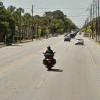Motorcycle: (36, 41, 62, 78)
